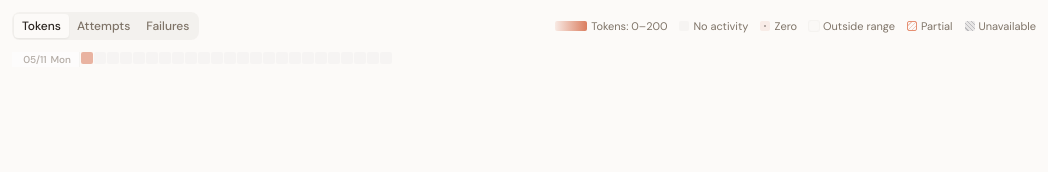
Scenario: Heatmap › retains focused details when adjacent loading moves the pointer away
Click the button named "05/11 Mon 00:00".
click(87, 58)  # box [81, 52, 93, 64]
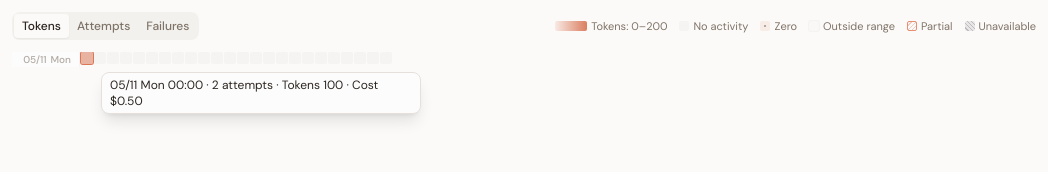
Move the pointer off the button named "05/11 Mon 00:00", box [81, 52, 93, 64]
Expected: the tooltip shows "2 attempts", [110, 77, 378, 109]
Press Tab
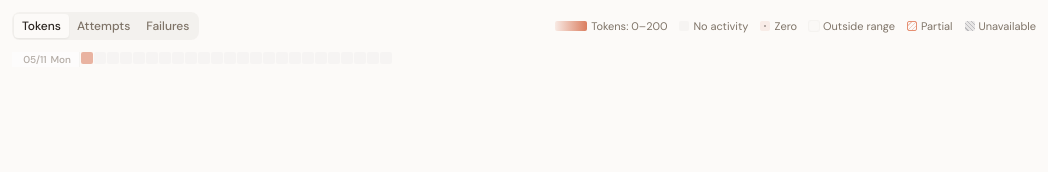
Expected: the tooltip "05/11 Mon 00:00 · 2 attempts · Tokens 100 · Cost $0.50" is gone
Hover over the button named "05/11 Mon 00:00".
mouse_move(87, 58)  # box [81, 52, 93, 64]
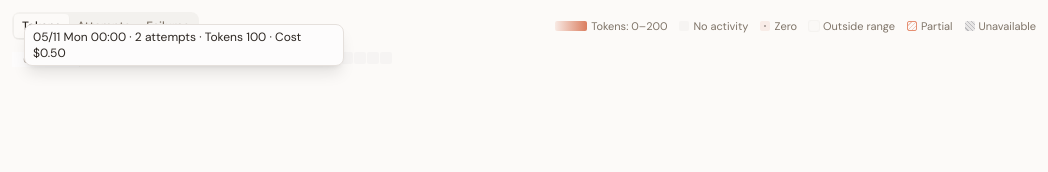
Move the pointer off the button named "05/11 Mon 00:00", box [81, 52, 93, 64]
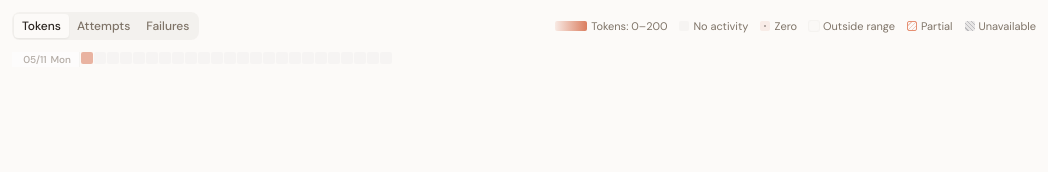
Expected: the tooltip "05/11 Mon 00:00 · 2 attempts · Tokens 100 · Cost $0.50" is gone
